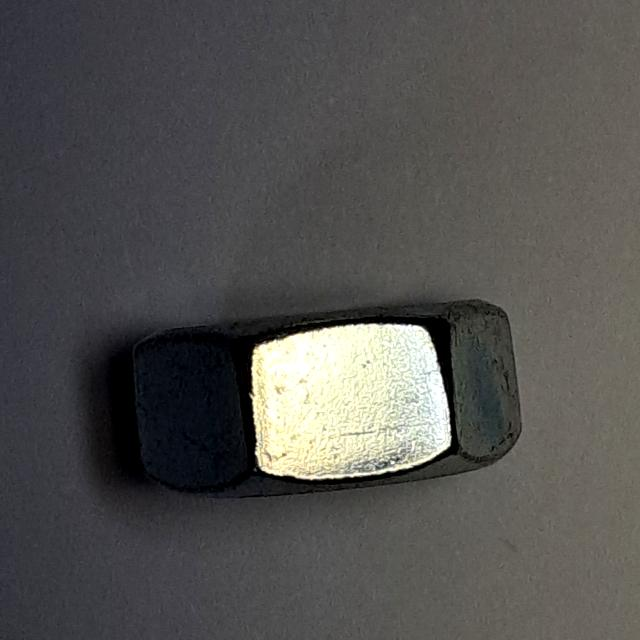Side_Excellent: (113, 276, 544, 524)
